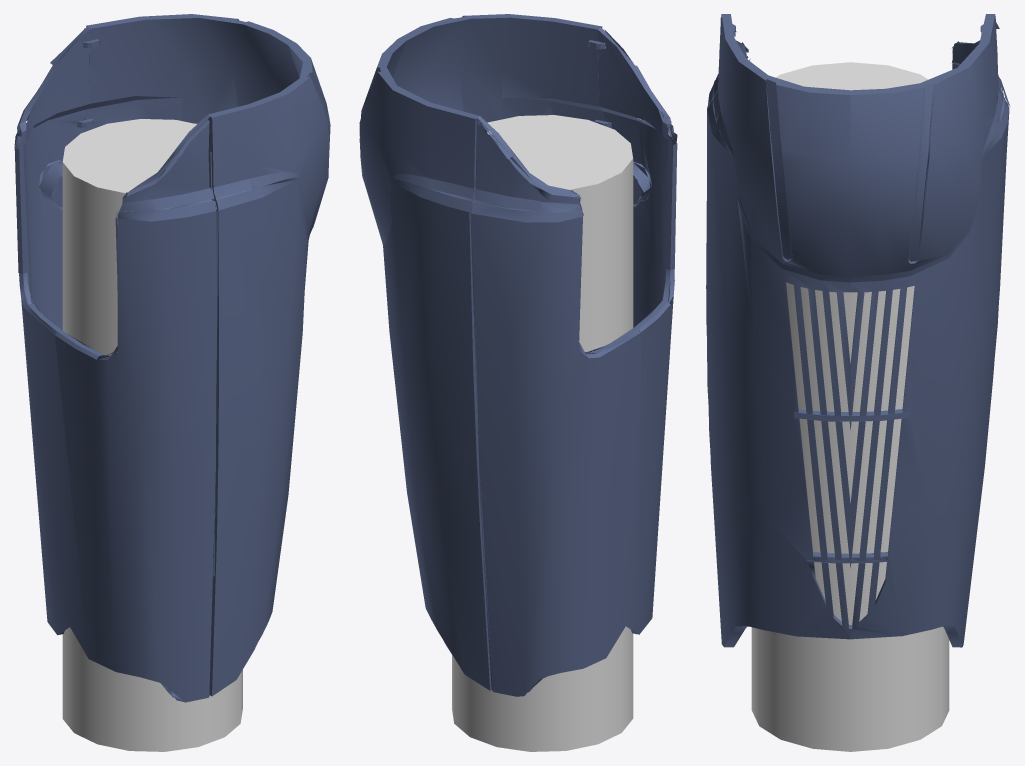
The model's file is icub_l_lower_leg.glb.
3 renders of one model, left to right at view 1: azimuth 30°, elevation 25°; view 2: azimuth 150°, elevation 25°; view 3: azimuth 270°, elevation 25°, orthographic. The views are drawn at different scales.
Visible parts, largest first — view 1: l_lowerleg_mesh, l_lowerleg_mesh.001, l_shank_cyl_mesh; view 2: l_lowerleg_mesh, l_lowerleg_mesh.001, l_shank_cyl_mesh; view 3: l_lowerleg_mesh.001, l_shank_cyl_mesh, l_lowerleg_mesh.
Boxes of the visible parts, box(x1,y1,x2,y2) form: l_lowerleg_mesh: box(14, 26, 218, 702); l_lowerleg_mesh.001: box(81, 14, 330, 696); l_shank_cyl_mesh: box(62, 119, 242, 751); l_lowerleg_mesh: box(470, 27, 677, 696); l_lowerleg_mesh.001: box(359, 14, 604, 690); l_shank_cyl_mesh: box(452, 115, 633, 751); l_lowerleg_mesh.001: box(706, 14, 1009, 647); l_shank_cyl_mesh: box(751, 62, 949, 751); l_lowerleg_mesh: box(706, 18, 1010, 404).
Size of the model in its own units: 0.1035 by 0.2446 by 0.097.
